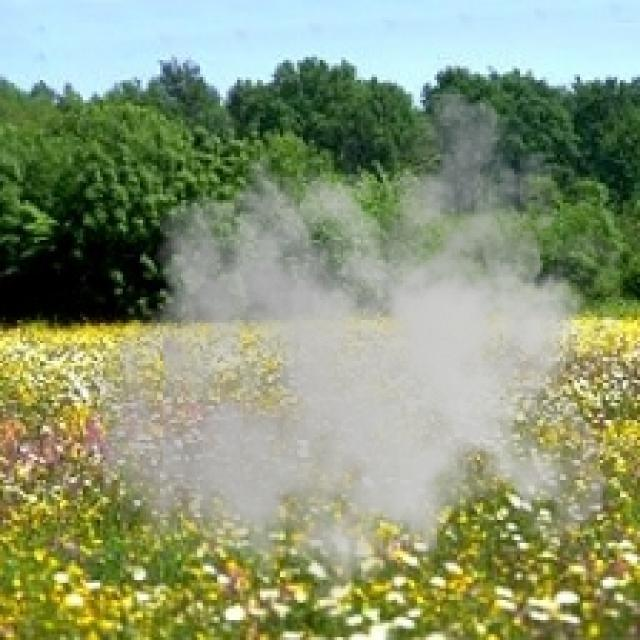Smoke: (88, 94, 623, 637)
